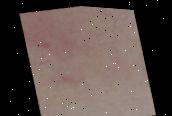plaque psoriasis: (65, 4, 135, 28)
